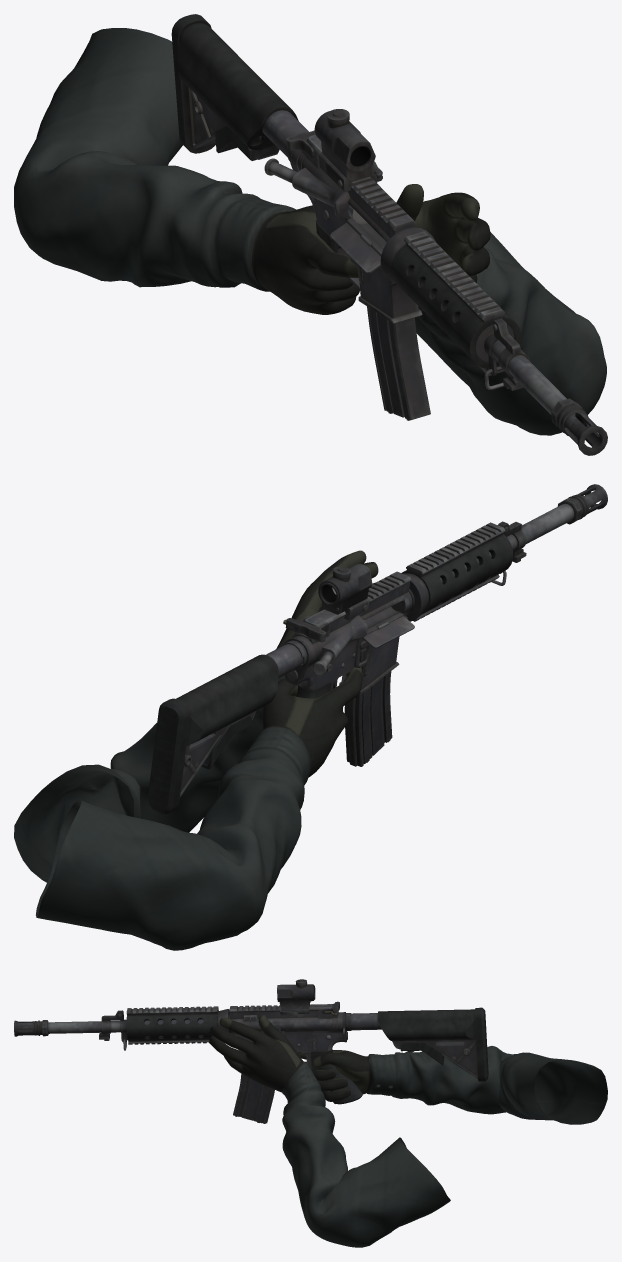
Rendered from carbine_000042.obj.
The picture shows the model from 3 angles, top to bottom: view 1: azimuth 30°, elevation 25°; view 2: azimuth 150°, elevation 25°; view 3: azimuth 270°, elevation 25°; orthographic projection. The views are drawn at different scales.
Visible parts, largest first — view 1: armmesh_arms_0, base_carbine_0, clip_carbine_0, scope_carbine_0, lid_carbine_0; view 2: armmesh_arms_0, base_carbine_0, clip_carbine_0, scope_carbine_0, lid_carbine_0; view 3: armmesh_arms_0, base_carbine_0, clip_carbine_0, scope_carbine_0.
Part boxes in pixels (left/top/right/bottom): armmesh_arms_0: left=14, top=28, right=606, bottom=435; base_carbine_0: left=171, top=14, right=607, bottom=455; clip_carbine_0: left=367, top=306, right=430, bottom=420; scope_carbine_0: left=314, top=109, right=382, bottom=191; lid_carbine_0: left=330, top=222, right=380, bottom=273; armmesh_arms_0: left=14, top=550, right=378, bottom=950; base_carbine_0: left=147, top=484, right=607, bottom=814; clip_carbine_0: left=344, top=671, right=392, bottom=766; scope_carbine_0: left=318, top=563, right=372, bottom=619; lid_carbine_0: left=362, top=616, right=414, bottom=648; armmesh_arms_0: left=209, top=1015, right=607, bottom=1247; base_carbine_0: left=14, top=1004, right=488, bottom=1104; clip_carbine_0: left=233, top=1073, right=274, bottom=1123; scope_carbine_0: left=277, top=979, right=315, bottom=1015.
Bounding box in the file's own units: 50.22 × 48.77 × 127.
Materials: 3 (3 with a texture image).
